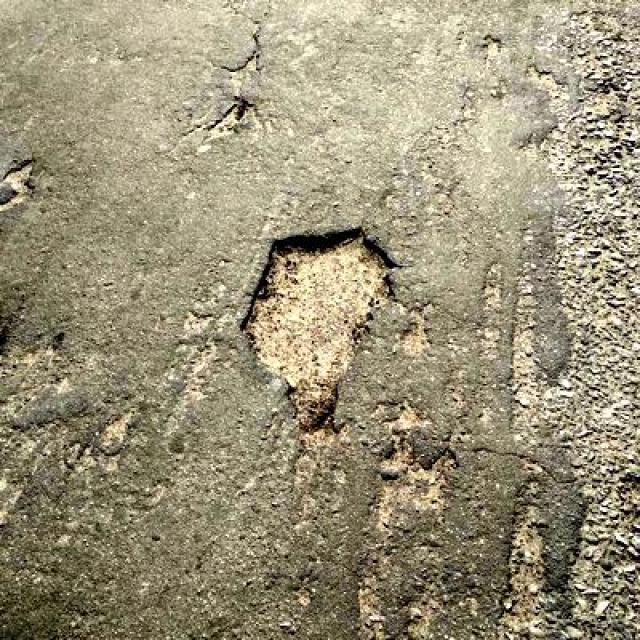pothole: (235, 222, 405, 429), (0, 158, 38, 212), (207, 99, 250, 139)
